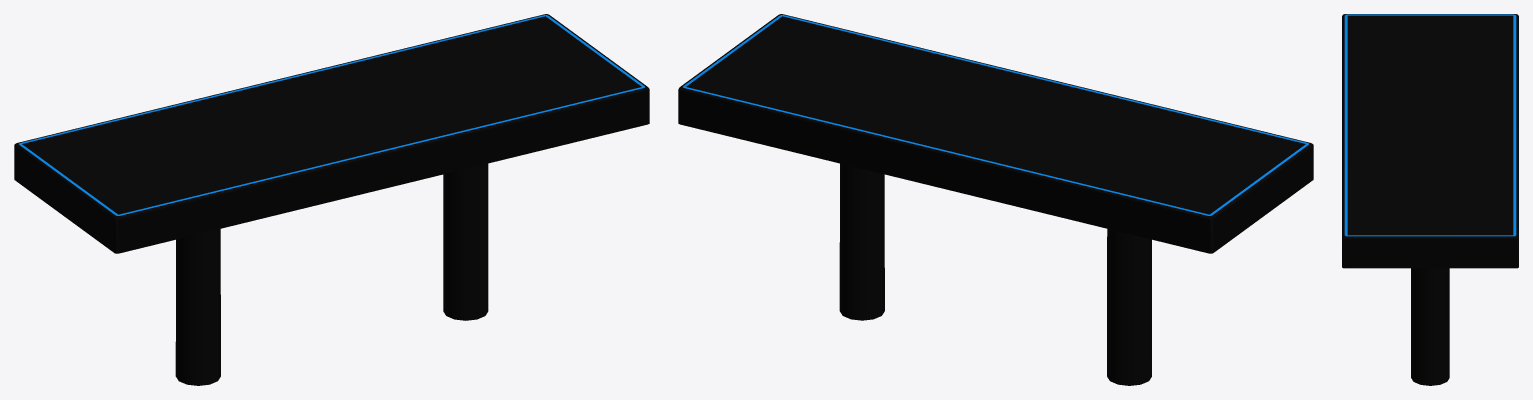
File: Main path.FBX
3 views of the same model, side by side, from view 1: azimuth 30°, elevation 25°; view 2: azimuth 150°, elevation 25°; view 3: azimuth 270°, elevation 25° (orthographic). The views are drawn at different scales.
Visible parts, largest first — view 1: Base_008; view 2: Base_008; view 3: Base_008.
Boxes of the visible parts, x1,y1,x2,y2 form: Base_008: [14, 14, 649, 385]; Base_008: [678, 14, 1313, 385]; Base_008: [1342, 14, 1518, 385].
Size of the model in its own units: 914 by 373 by 305.
